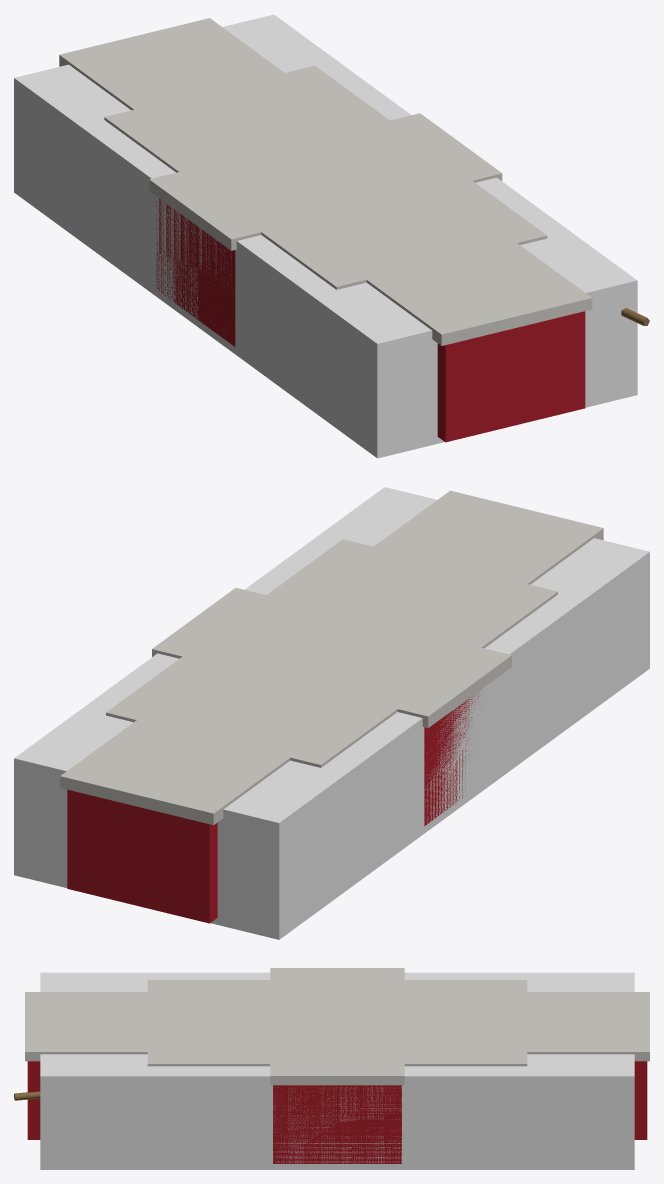
The model's file is barca_roja.glb.
3 renders of one model, top to bottom at view 1: azimuth 30°, elevation 25°; view 2: azimuth 150°, elevation 25°; view 3: azimuth 270°, elevation 25°, orthographic. The views are drawn at different scales.
Visible parts, largest first — view 1: barca_roja_Malla, COL_0; view 2: barca_roja_Malla, COL_0; view 3: barca_roja_Malla, COL_0.
Part boxes in pixels (x1,y1,x2,y2): barca_roja_Malla: (59, 18, 649, 442); COL_0: (14, 14, 637, 458); barca_roja_Malla: (60, 490, 603, 923); COL_0: (14, 487, 649, 939); barca_roja_Malla: (14, 968, 649, 1163); COL_0: (40, 972, 634, 1169).
Bounding box in the file's own units: 1.98 × 0.82 × 4.93.
